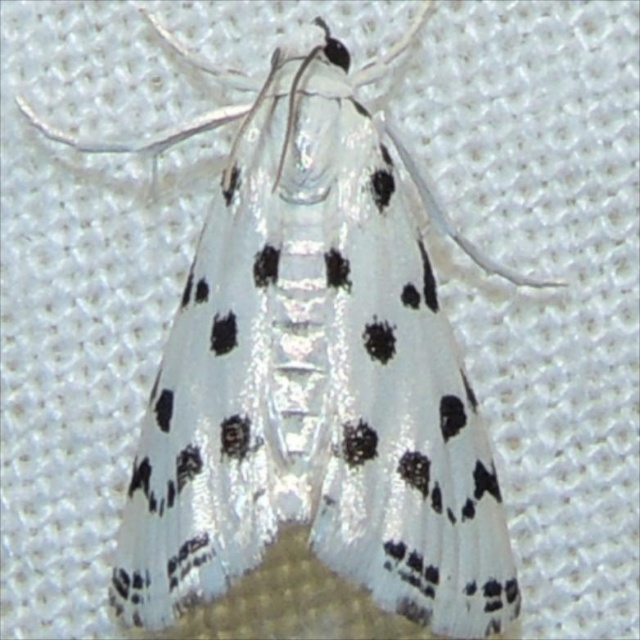Butterfly: (47, 17, 593, 620)
